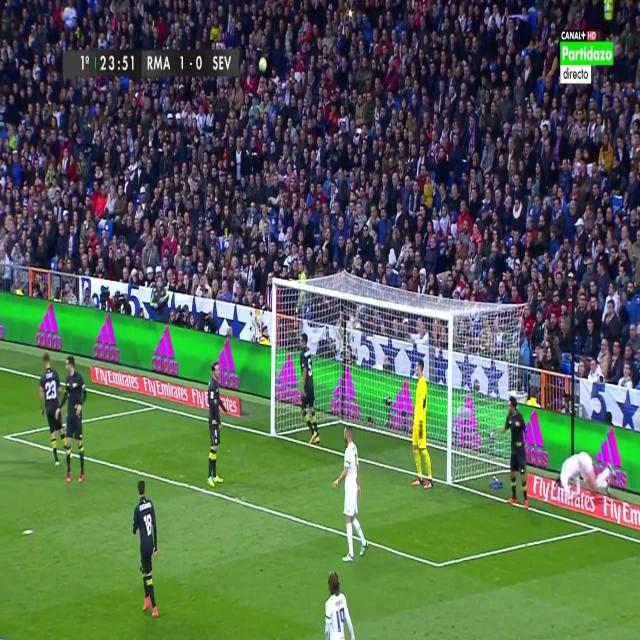Goalkeeper: (408, 358, 438, 491)
Player: (330, 424, 372, 566), (54, 354, 91, 487), (495, 396, 534, 511), (131, 478, 162, 622), (38, 352, 69, 467), (556, 450, 616, 503), (206, 360, 230, 490), (297, 331, 324, 445), (322, 569, 358, 640)
